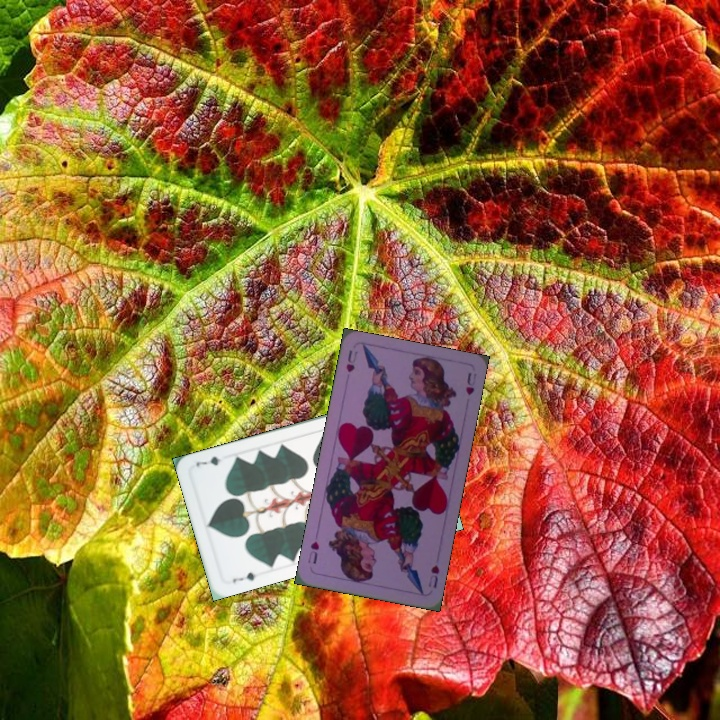G7: (228, 568, 258, 585)
HU: (424, 561, 442, 591), (342, 346, 360, 375)
